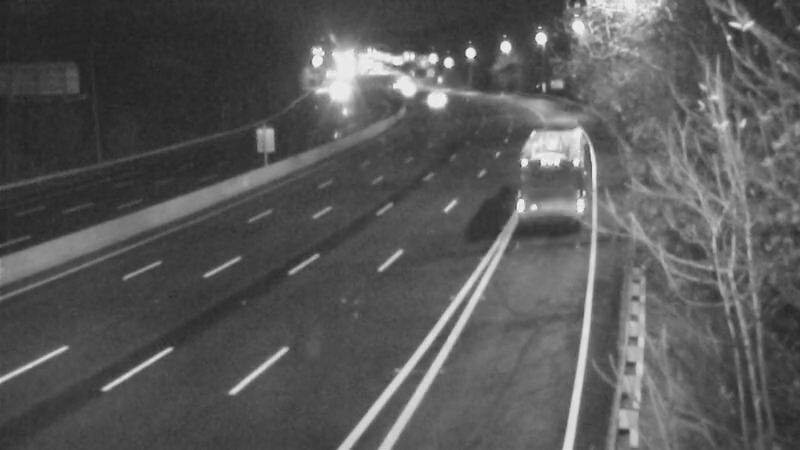vehicle: (501, 137, 581, 217), (406, 72, 456, 122), (319, 65, 369, 115)
